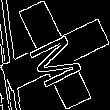M_NE: (22, 23, 88, 87)
